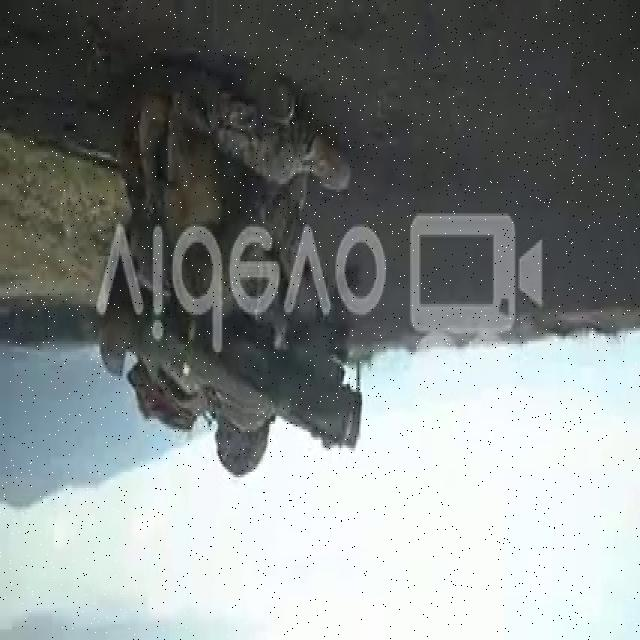bazooka: (98, 253, 369, 468)
